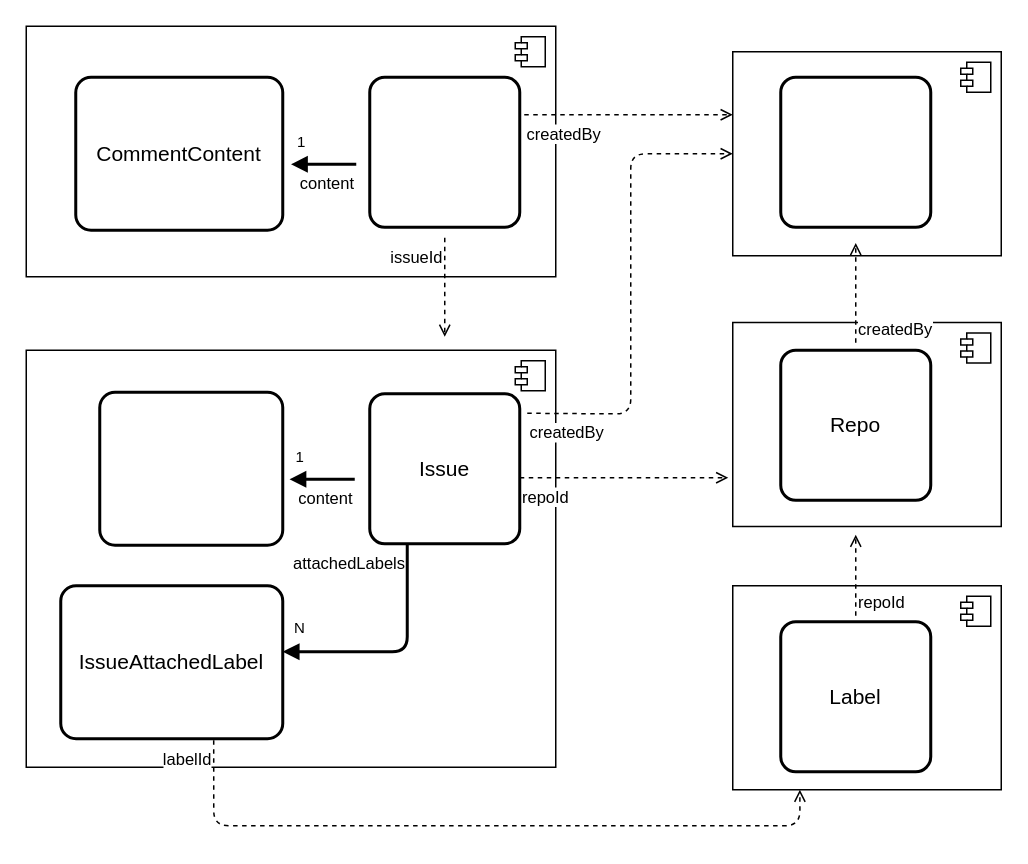
Some shapes in this 1028 by 864 pixel diagram are drawn without their labels. The shapes that lost their labels are listed below. From the top down, each one's centre as x and y in pixels, then its label:
the point at 444,151: Comment
the point at 855,151: Account
the point at 191,468: IssueContent
